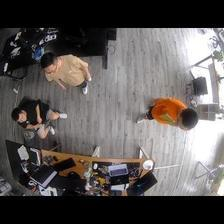normal: (42, 53, 91, 94), (12, 105, 68, 138), (136, 99, 198, 128)
